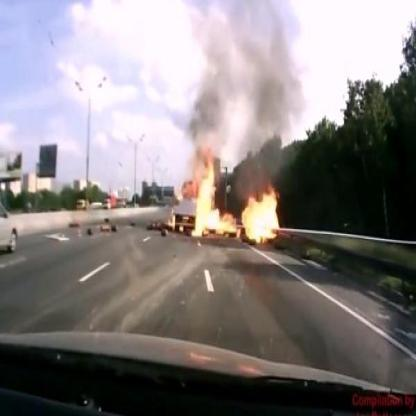fire: (191, 148, 283, 244), (168, 210, 176, 228)
